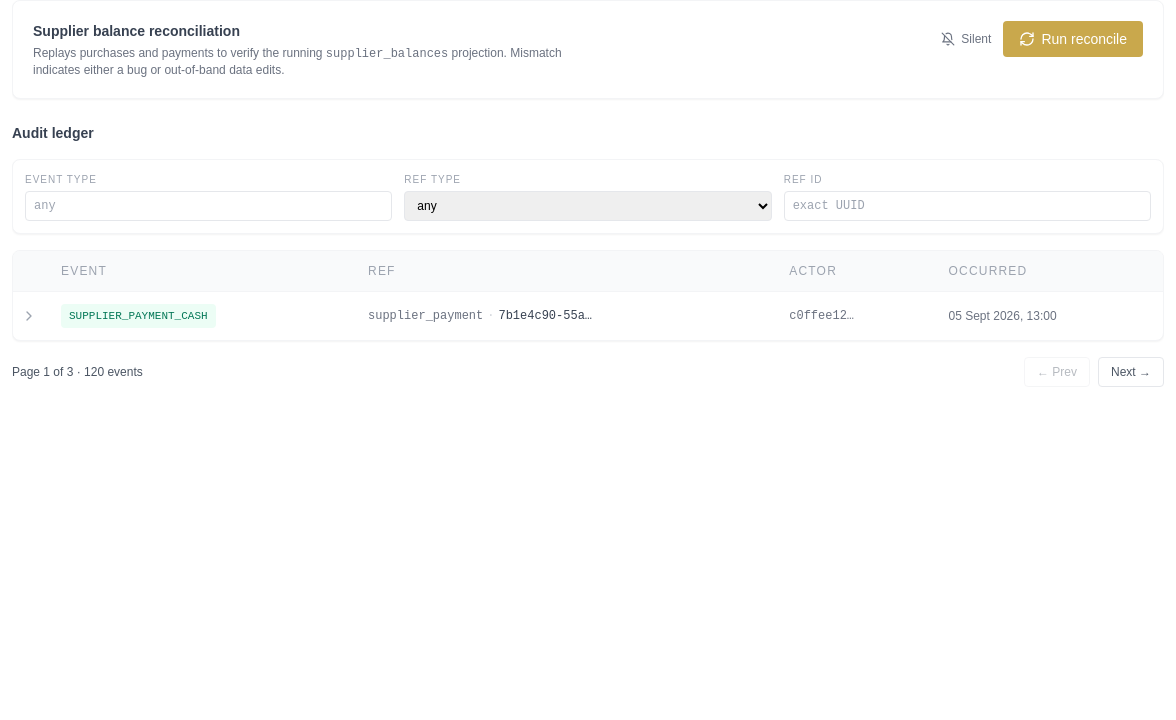
inventory ledger labels and i18n (NEX-64) › names a gold drift row with a single K in English too
Click the button "Run reconcile" at (1073, 39), box [1003,21,1143,57]
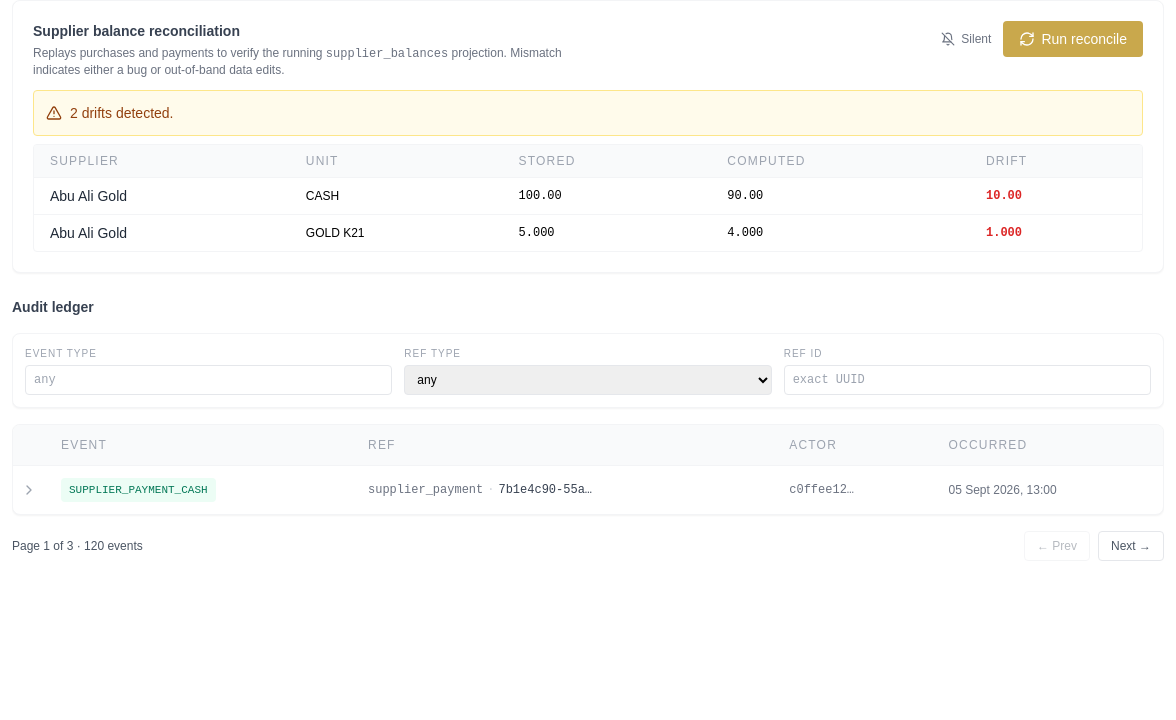
Now the text "GOLD K21" is shown, box [290,214,503,251]
Now the text "CASH" is shown, box [290,178,503,214]
